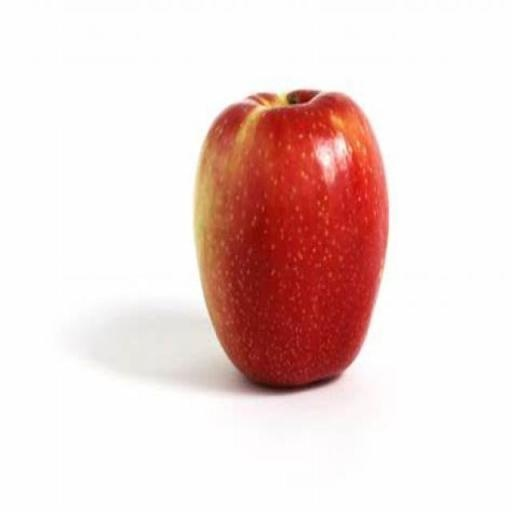fruit: (91, 86, 299, 399)
